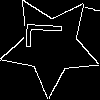L: (25, 20, 71, 51)
